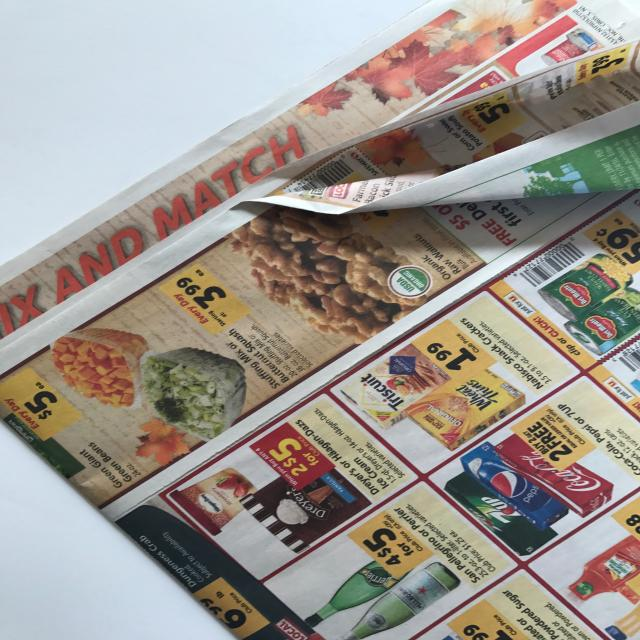paper: (1, 1, 639, 639)
